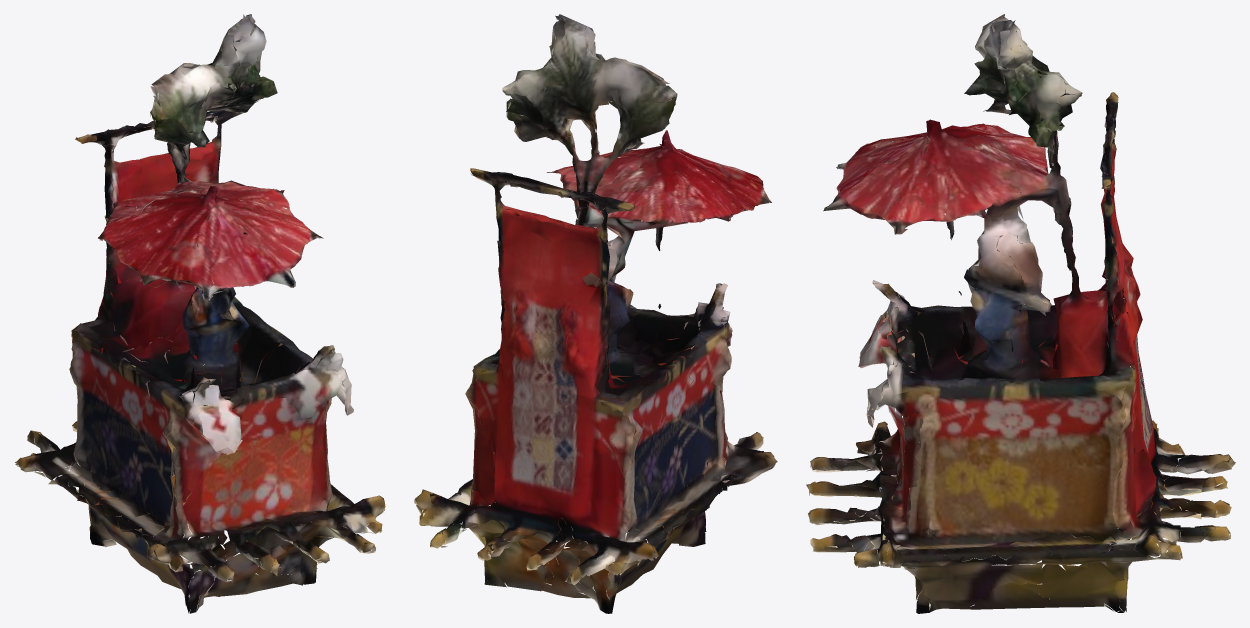
File: 孟宗山.glb
3 views of the same model, side by side, from view 1: azimuth 30°, elevation 25°; view 2: azimuth 150°, elevation 25°; view 3: azimuth 270°, elevation 25° (orthographic). The views are drawn at different scales.
Parts seen in each view (by area): view 1: mesh; view 2: mesh; view 3: mesh.
Part boxes in pixels (x1,y1,x2,y2): mesh: [15, 14, 385, 613]; mesh: [414, 14, 777, 613]; mesh: [806, 14, 1235, 613].
Bounding box in the file's own units: 2.55 × 5.41 × 3.62.
Materials: 1 (1 with a texture image).
